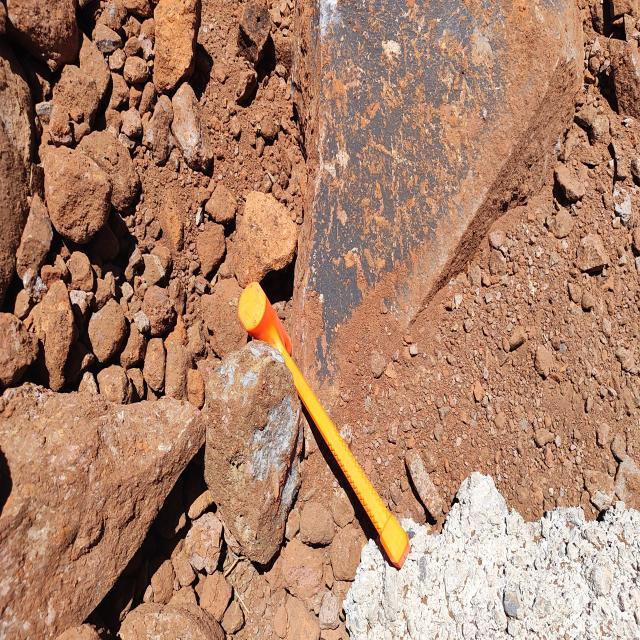Orange_hammer: (237, 279, 411, 571)
